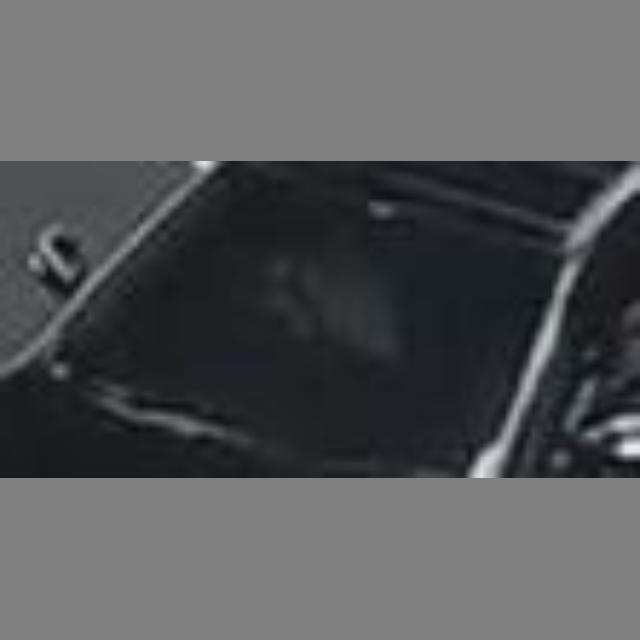pakai: (208, 207, 409, 386)
